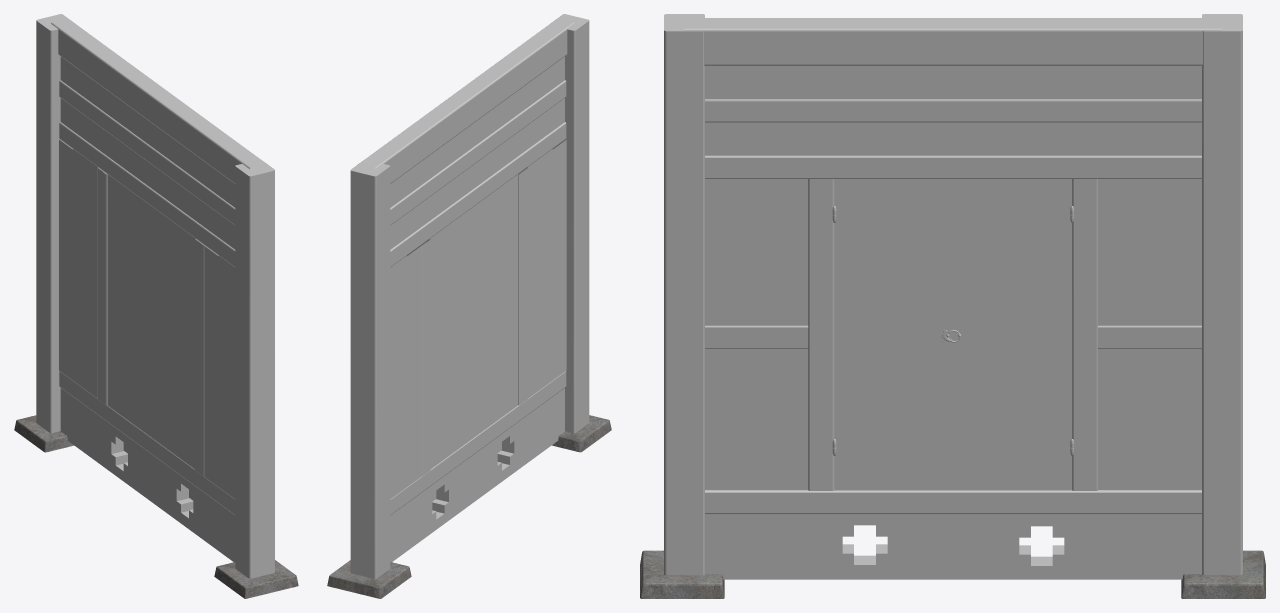
Rendered from SM_Building_Wall_12.FBX.
3 renders of one model, left to right at view 1: azimuth 30°, elevation 25°; view 2: azimuth 150°, elevation 25°; view 3: azimuth 270°, elevation 25°, orthographic. The views are drawn at different scales.
Parts seen in each view (by area): view 1: SM_Building_Wall_12; view 2: SM_Building_Wall_12; view 3: SM_Building_Wall_12.
Boxes of the visible parts, left/top/right/bottom form: SM_Building_Wall_12: left=14, top=14, right=298, bottom=598; SM_Building_Wall_12: left=327, top=14, right=611, bottom=598; SM_Building_Wall_12: left=640, top=14, right=1265, bottom=598.
Size of the model in its own units: 67.32 by 491 by 498.
